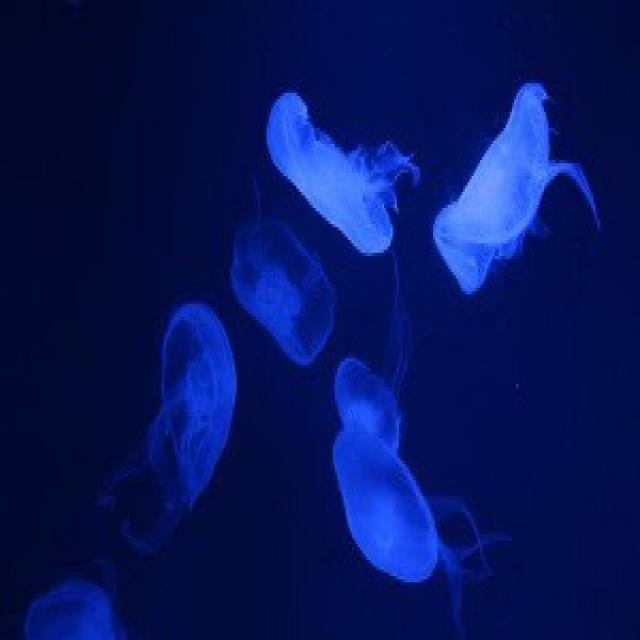Jellyfish: (428, 64, 599, 301), (327, 428, 484, 640), (103, 309, 234, 560), (263, 72, 410, 271), (326, 308, 436, 422), (6, 571, 123, 640)
